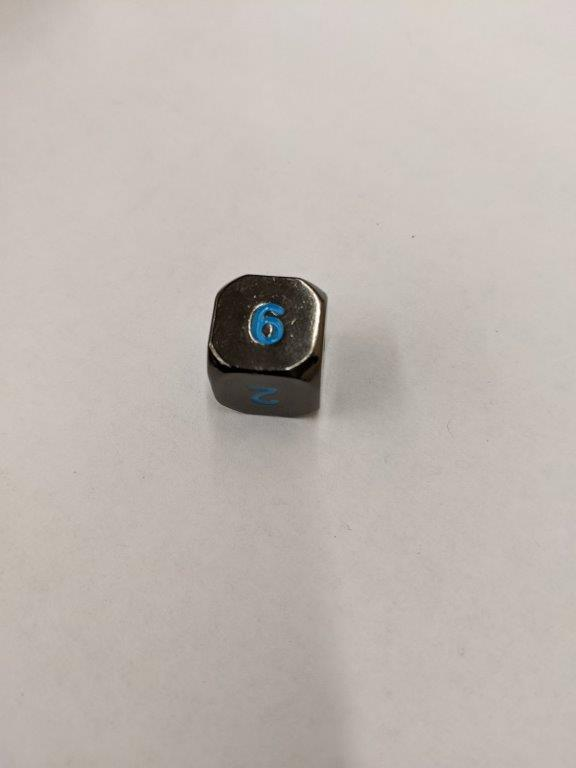d6-6: (206, 272, 329, 428)
